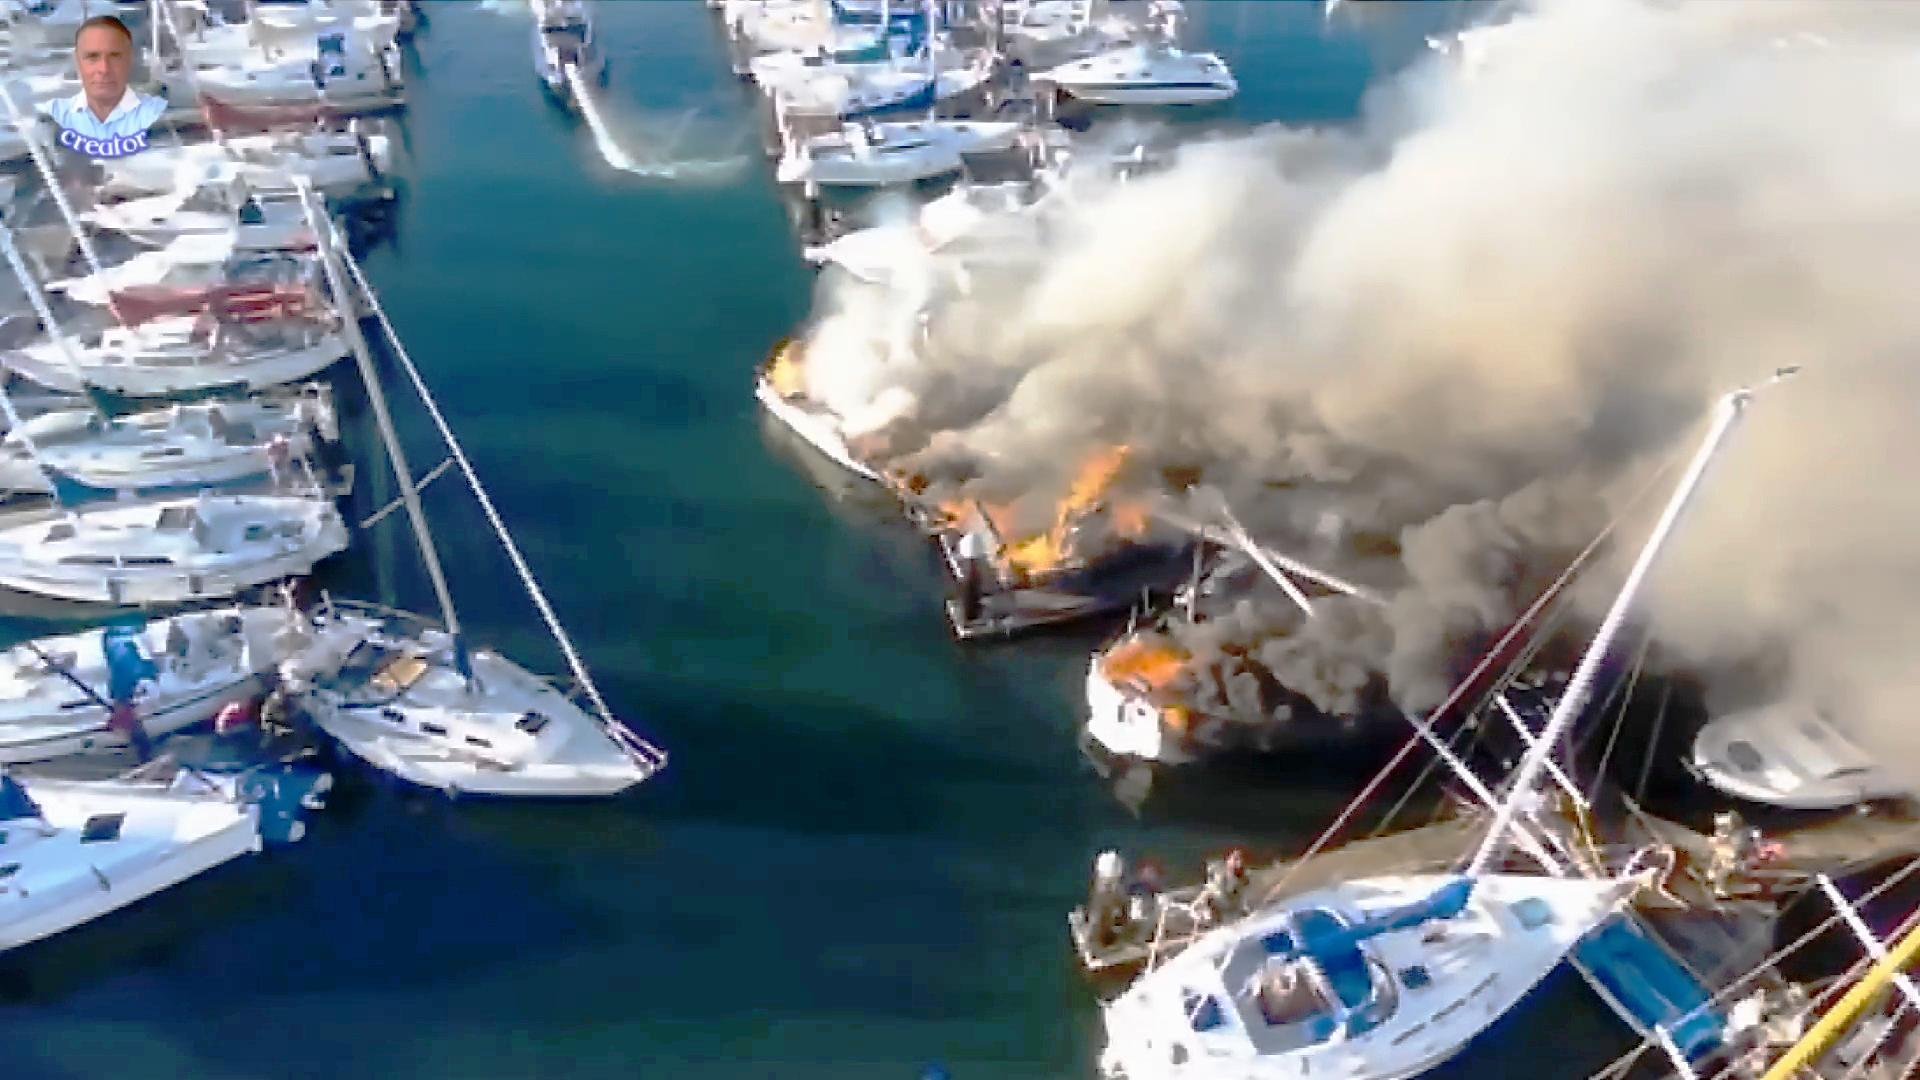fire: (977, 463, 1118, 607), (1116, 636, 1183, 727)
smoke: (1006, 149, 1873, 423), (1528, 16, 1920, 595), (1216, 564, 1474, 731)
